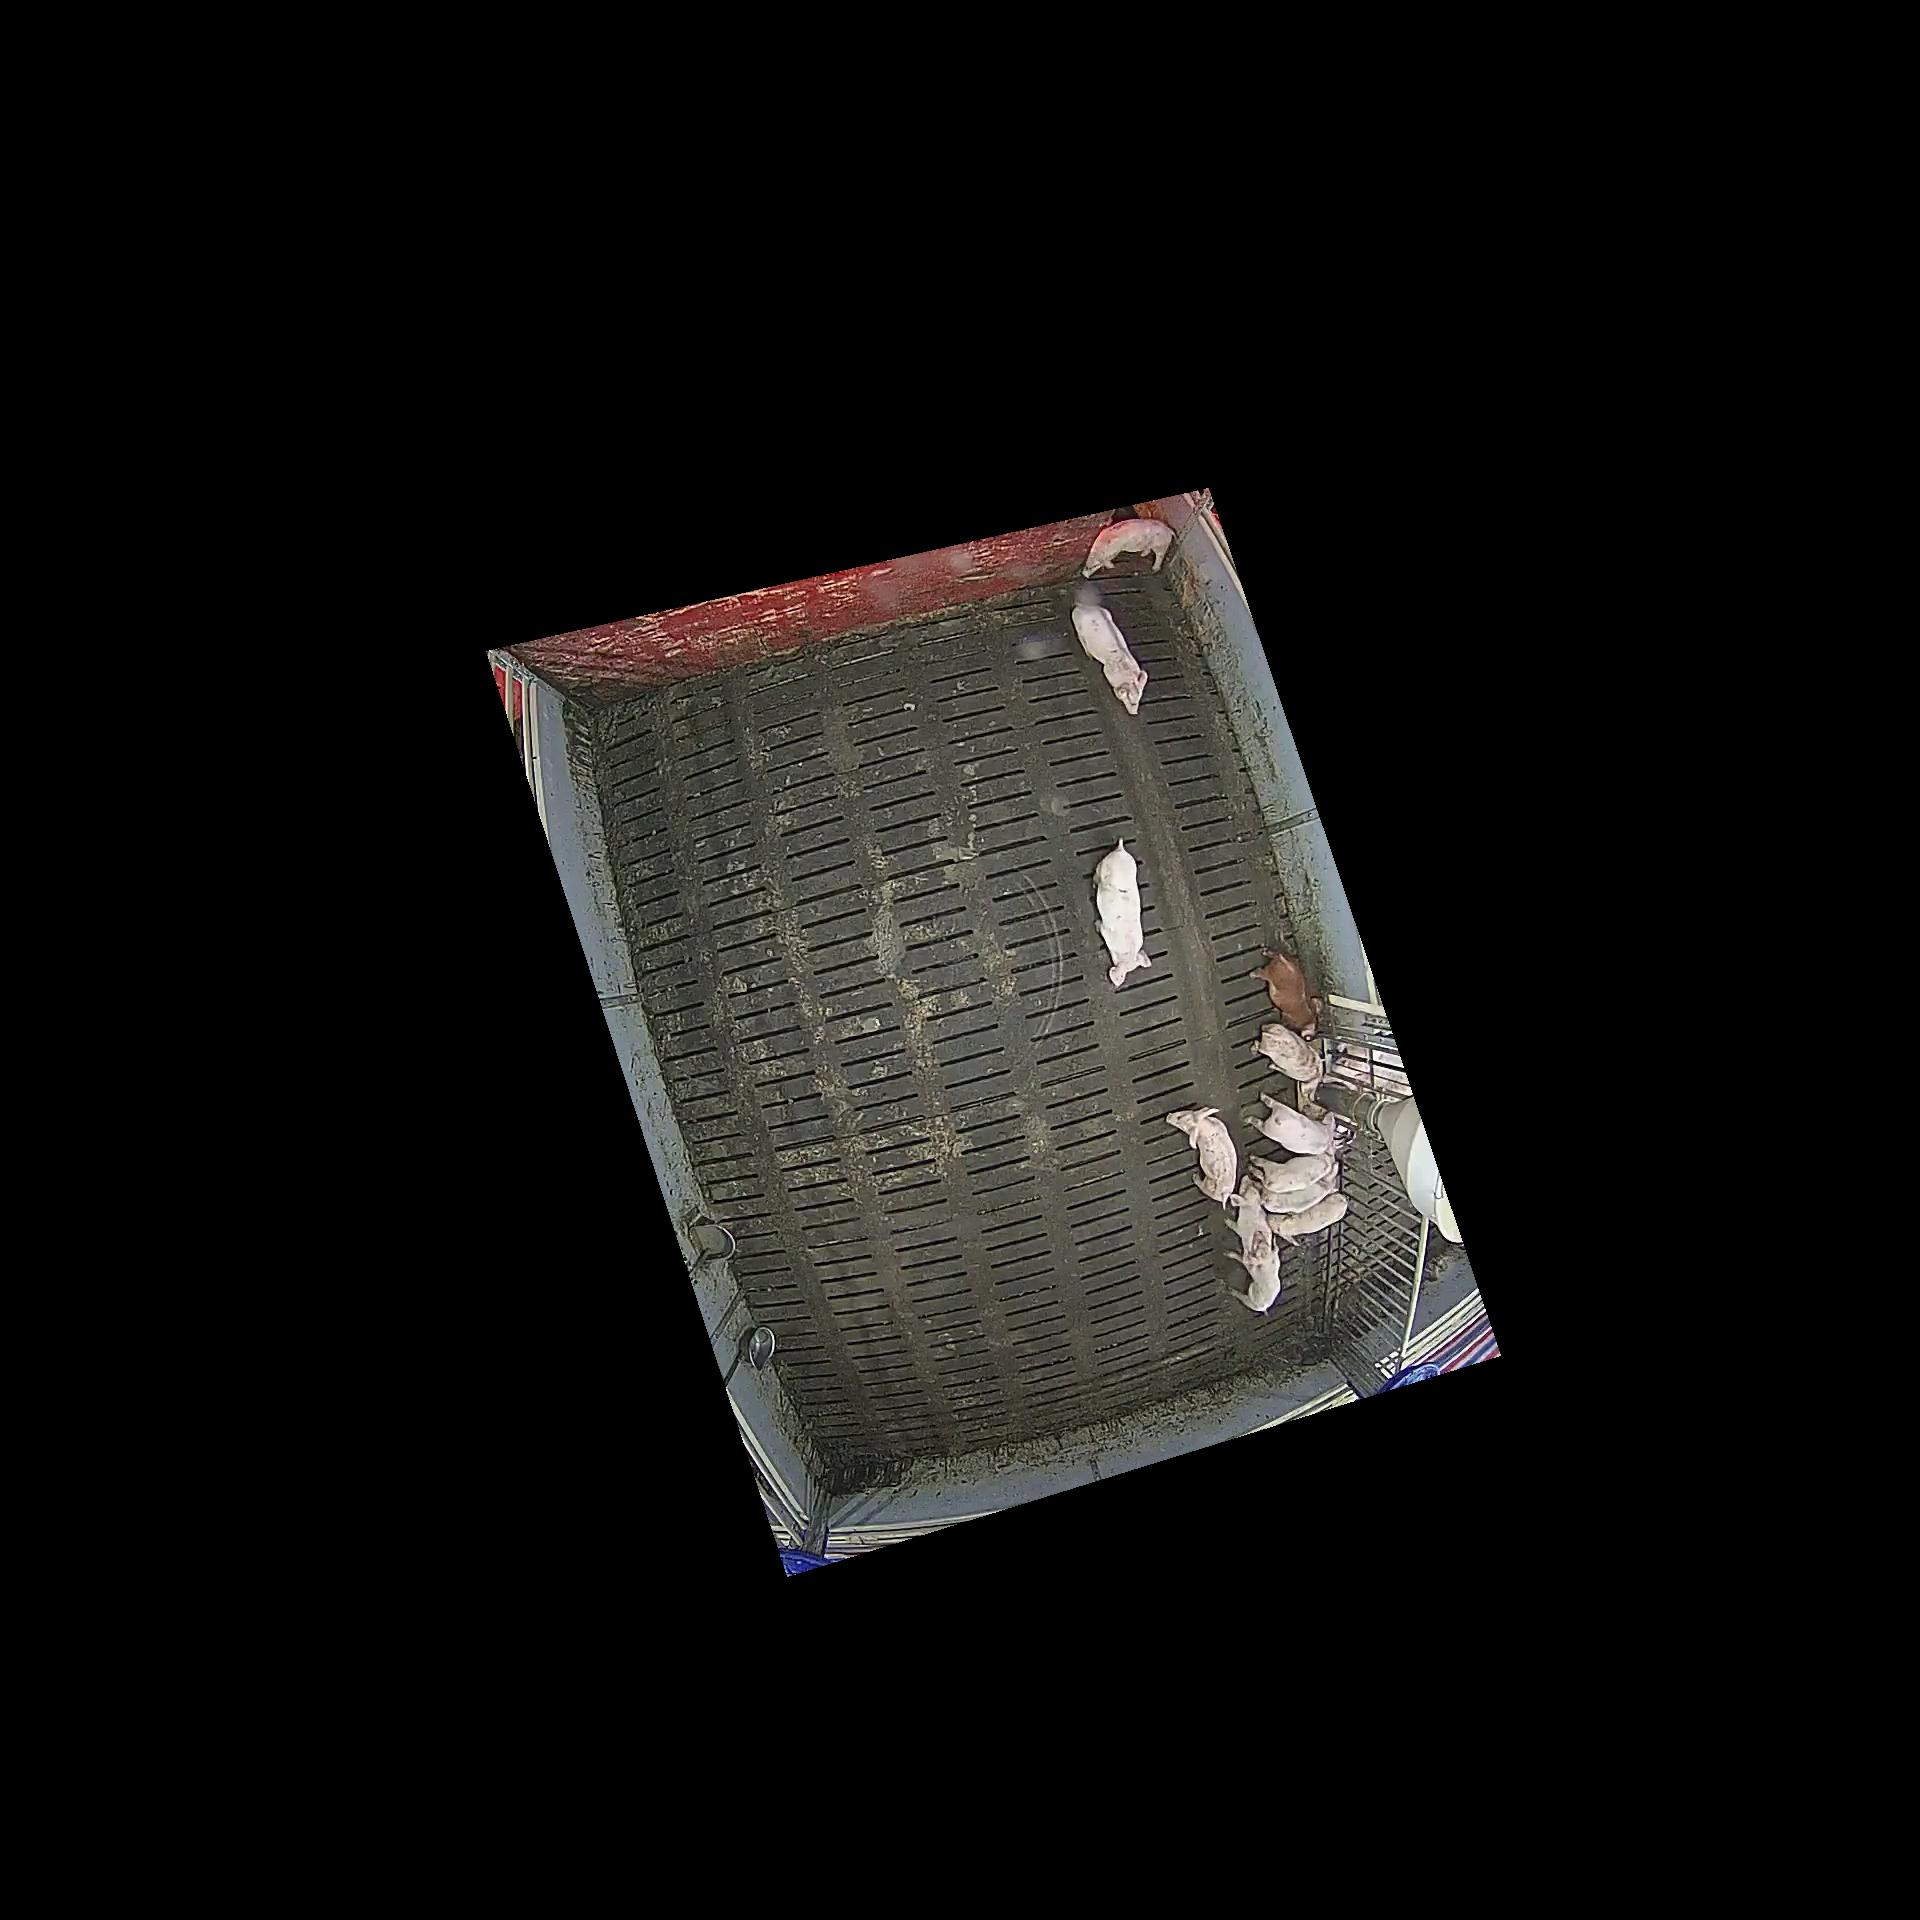pig: (1094, 837, 1153, 986), (1071, 603, 1148, 716), (1166, 1106, 1238, 1210), (1245, 1088, 1342, 1155), (1252, 949, 1320, 1039), (1083, 519, 1176, 577), (1259, 1023, 1326, 1090), (1224, 1234, 1280, 1313), (1254, 1162, 1340, 1211), (1271, 1194, 1349, 1247), (1225, 1176, 1271, 1259), (1248, 1153, 1336, 1190)
